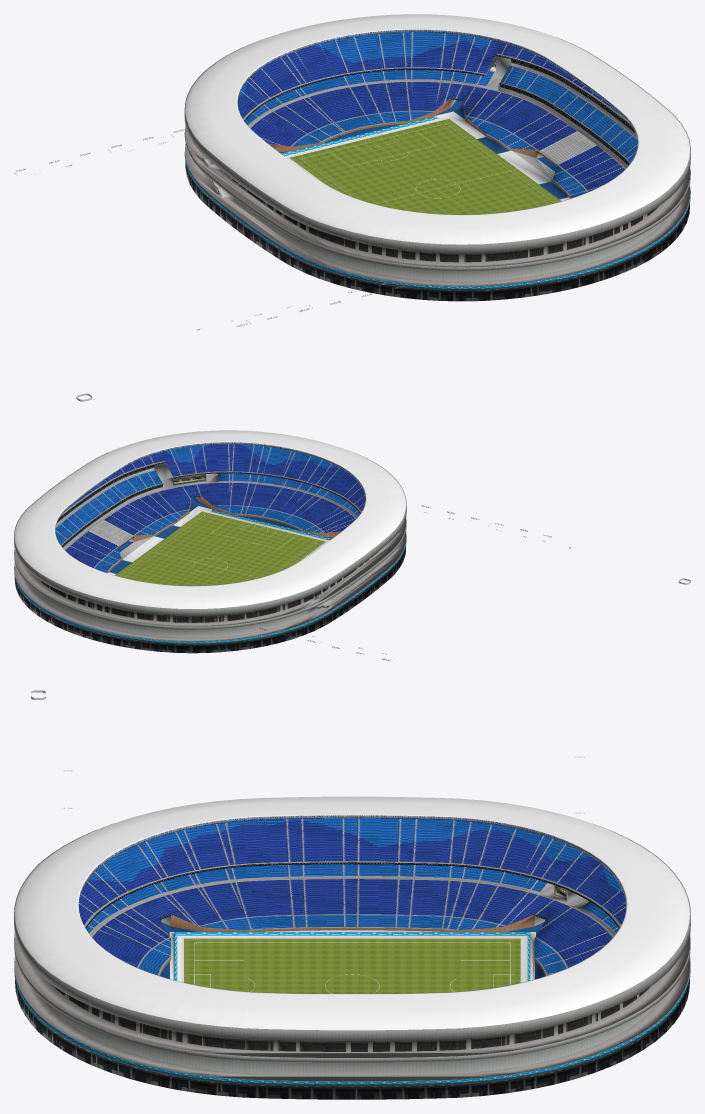
File: stadium_v2_gltf.gltf
The picture shows the model from 3 angles, top to bottom: view 1: azimuth 30°, elevation 25°; view 2: azimuth 150°, elevation 25°; view 3: azimuth 270°, elevation 25°; orthographic projection. The views are drawn at different scales.
Parts seen in each view (by area): view 1: modern+stadium2; view 2: modern+stadium2; view 3: modern+stadium2.
Boxes of the visible parts, box(x1,y1,x2,y2) form: modern+stadium2: box(184, 14, 690, 301); modern+stadium2: box(14, 430, 406, 653); modern+stadium2: box(14, 796, 690, 1099).
Bounding box in the file's own units: 12610 × 1234 × 8853.
45 materials, 32 textured.
